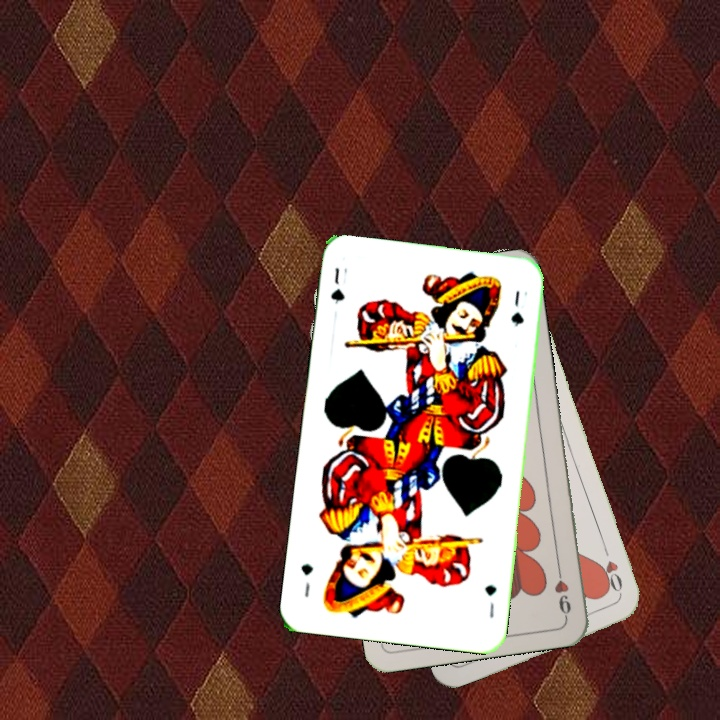GU: (326, 263, 350, 307), (480, 581, 499, 620)
H9: (550, 561, 574, 620)
HO: (599, 544, 625, 601)
